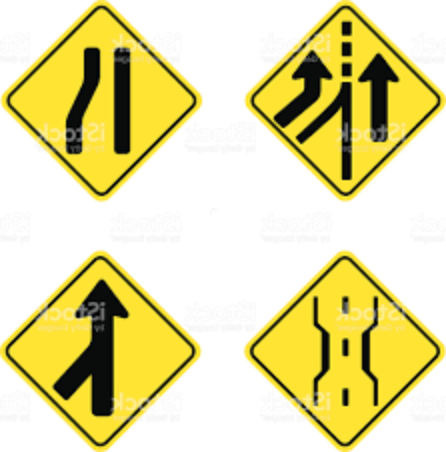Narrow_road: (3, 1, 202, 200)
